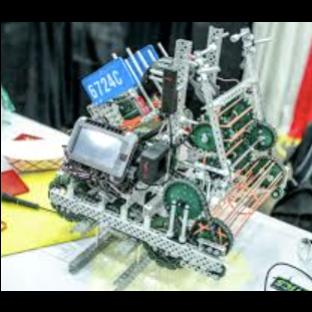Robot: (47, 25, 288, 289)
